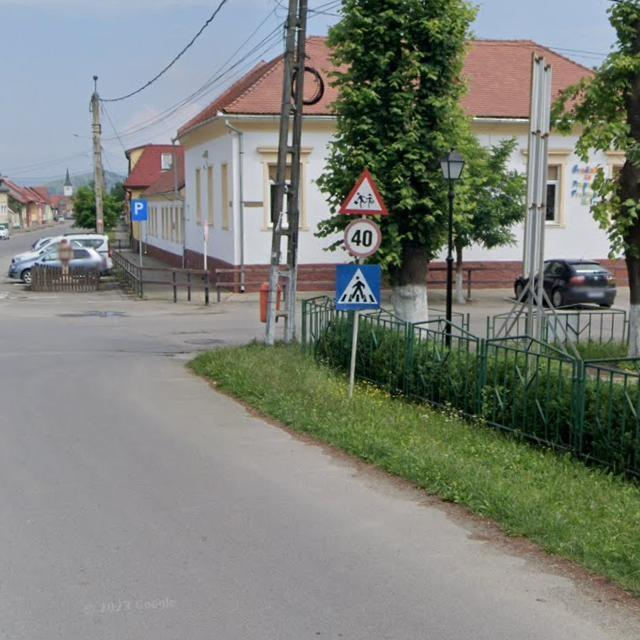forb_speed_over_40: (346, 219, 382, 257)
info_crosswalk: (335, 265, 381, 310)
